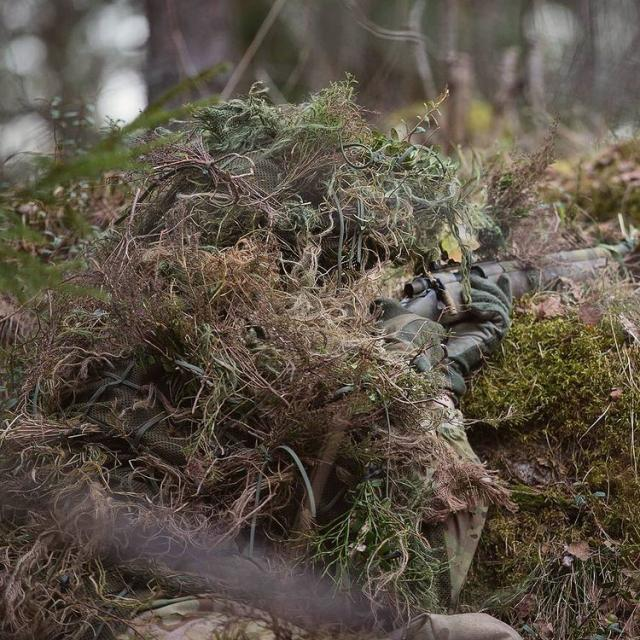Camouflage: (26, 75, 619, 617)
